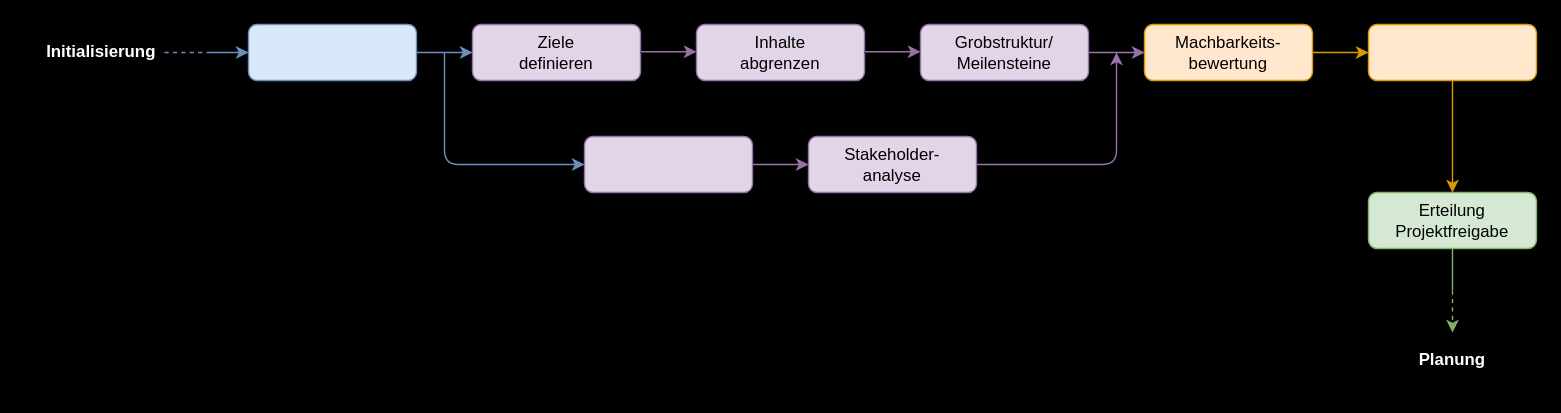
Image size: 1561x413. Some labels were removed from this diagram. Each missing label, with the centre of its shape:
"Definition Erfolgskriterien" goes at (x=1451, y=51).
"Projektkernteam bilden" goes at (x=331, y=51).
"Umgang mit Risiken festlegen" goes at (x=667, y=163).
